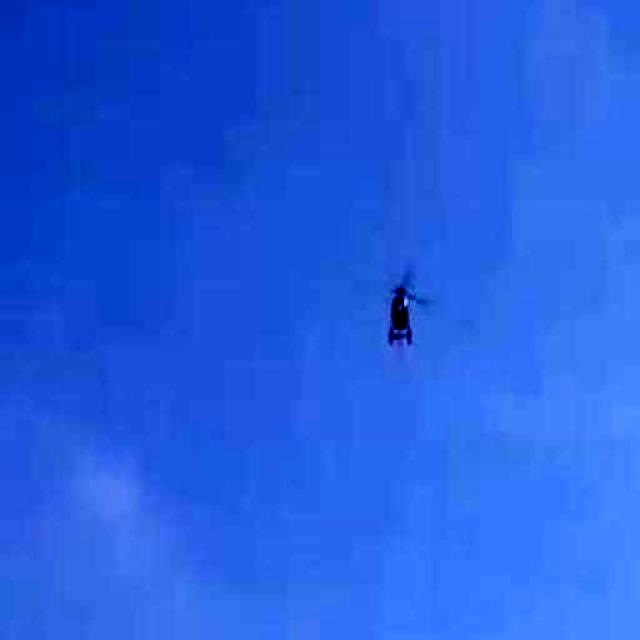drone: (330, 222, 484, 402)
